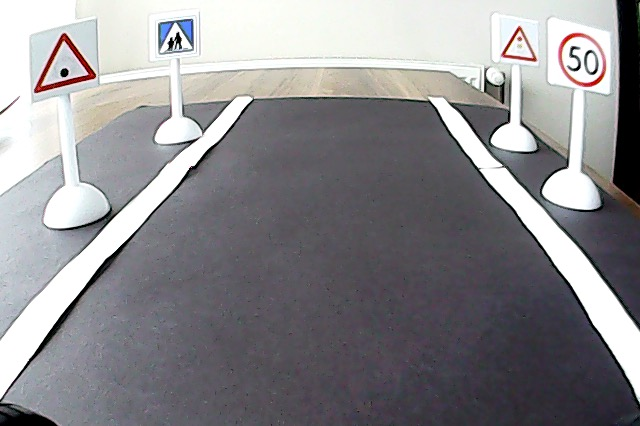green light: (28, 29, 101, 95)
red light: (496, 16, 540, 66)
school crossing: (153, 16, 201, 57)
speed limit 50: (553, 29, 609, 91)
